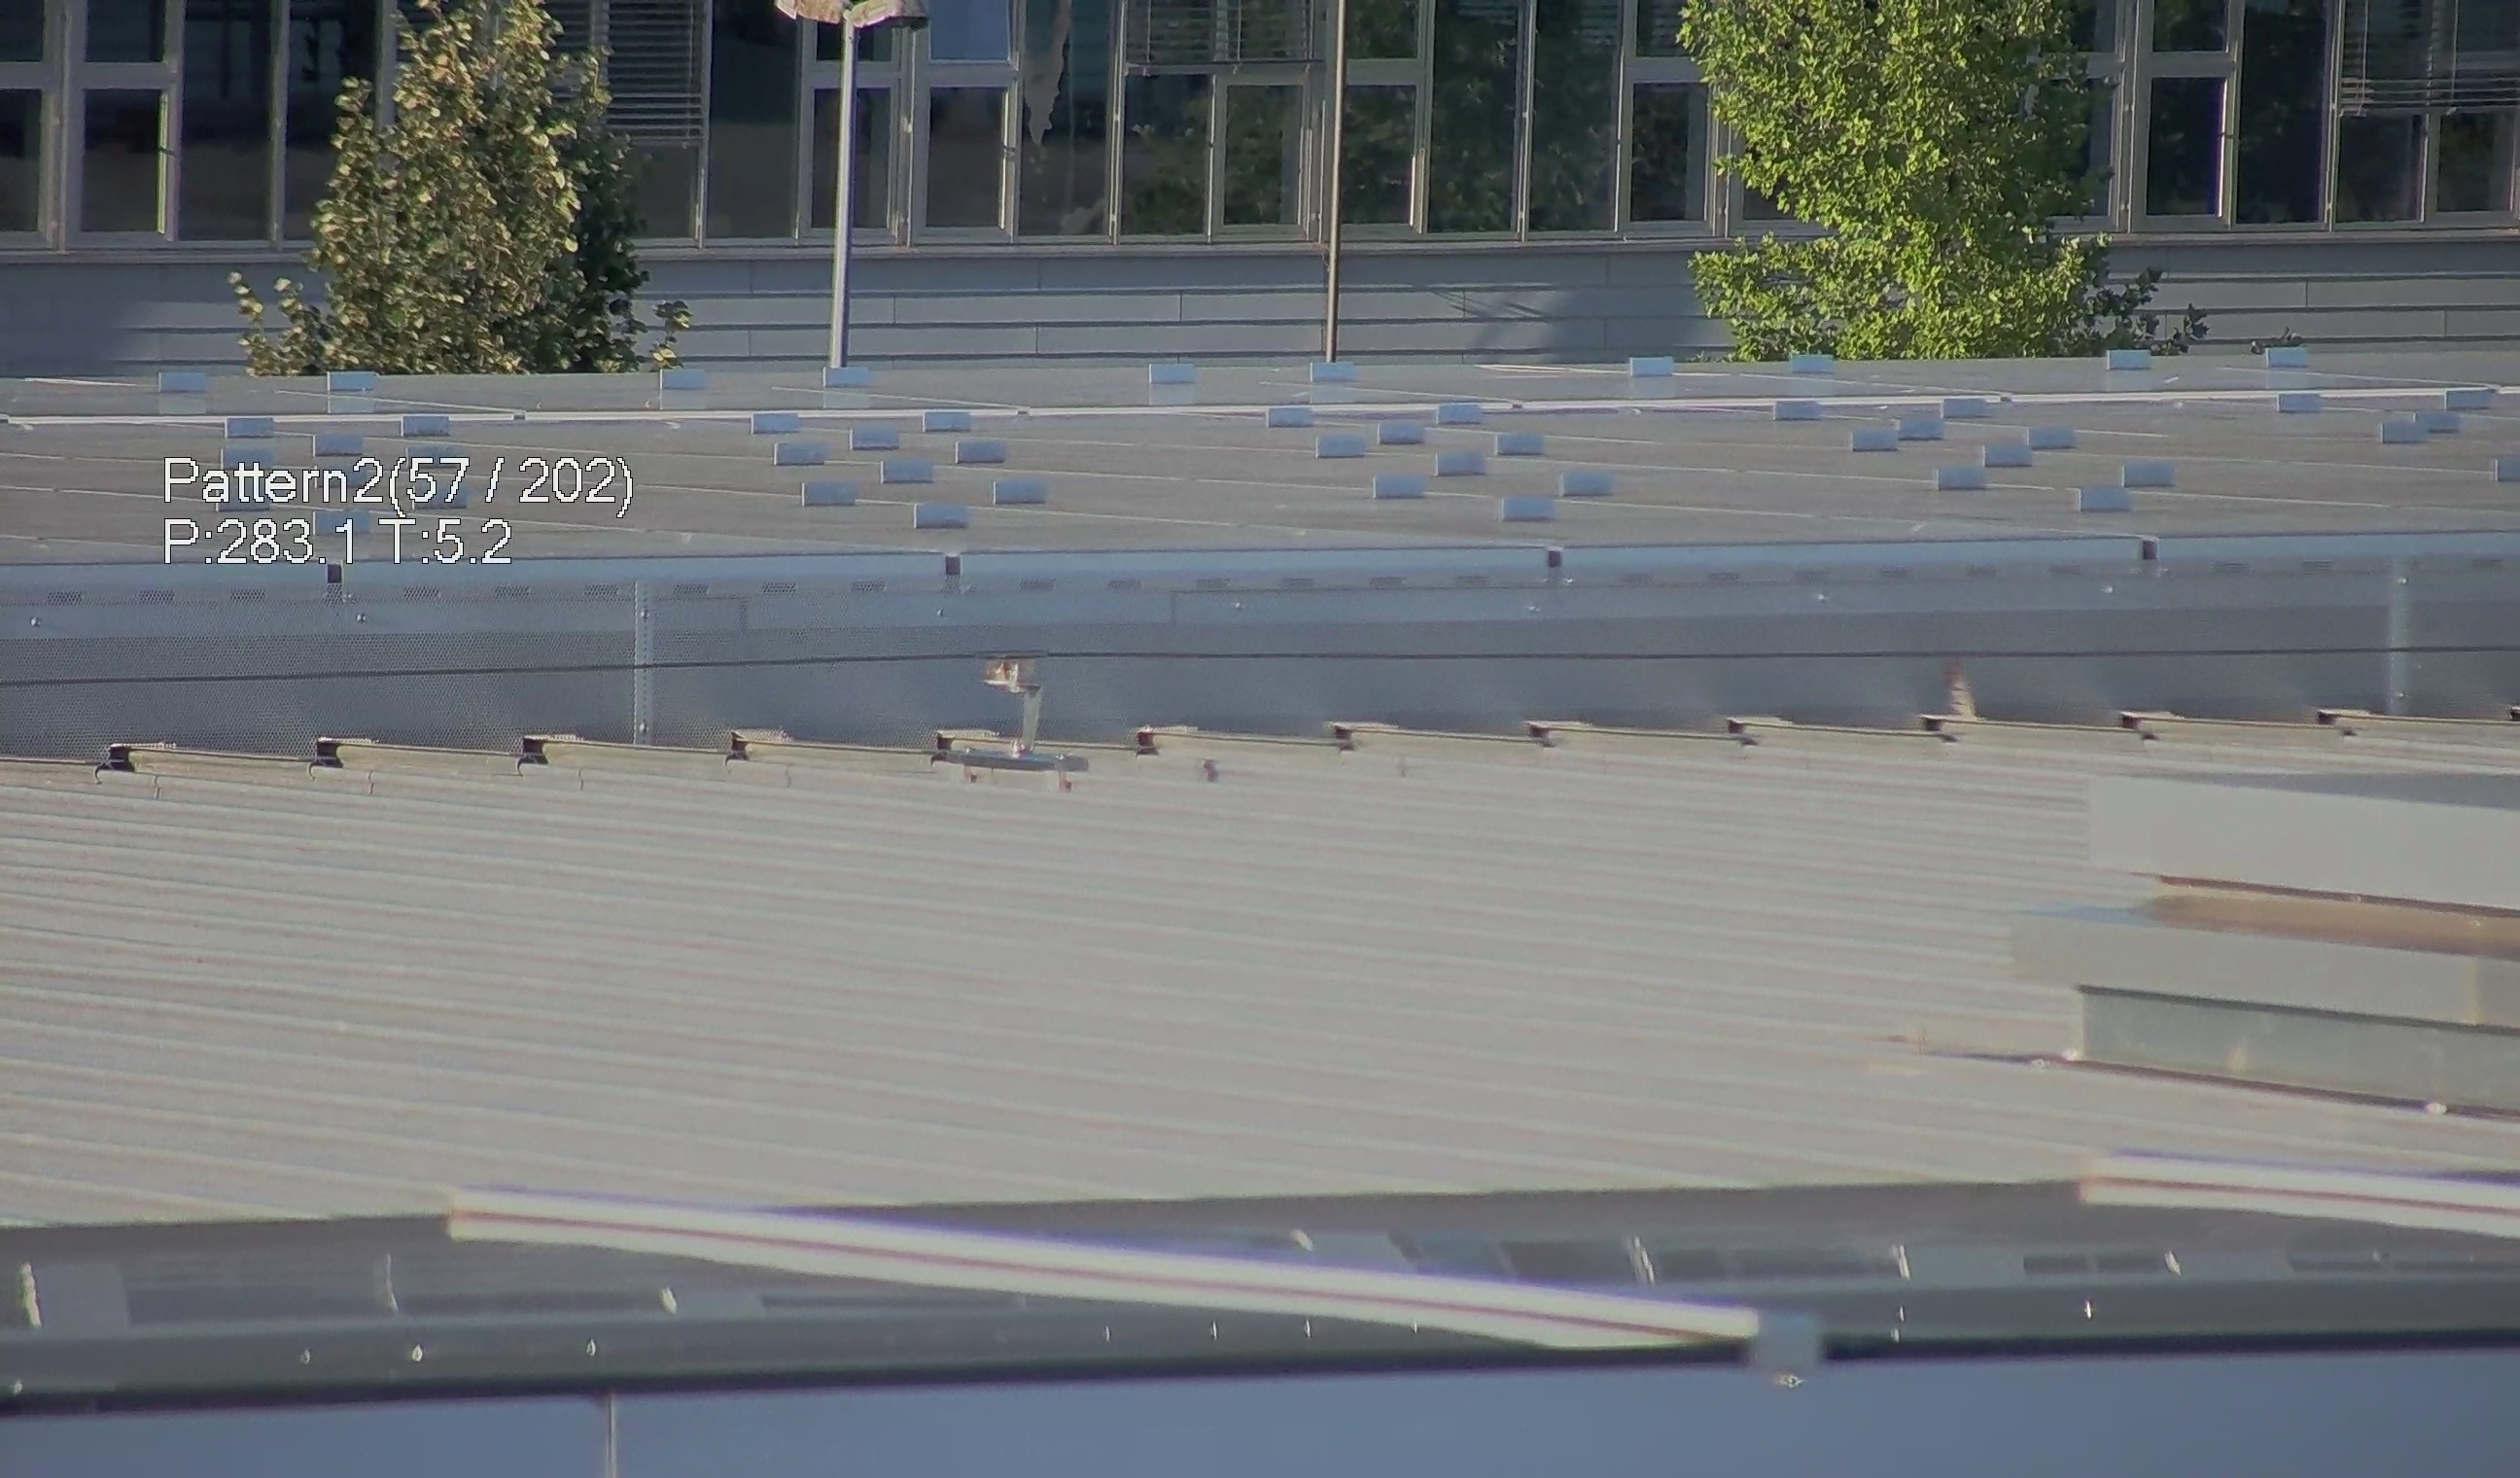Other: (1926, 653, 1989, 743)
